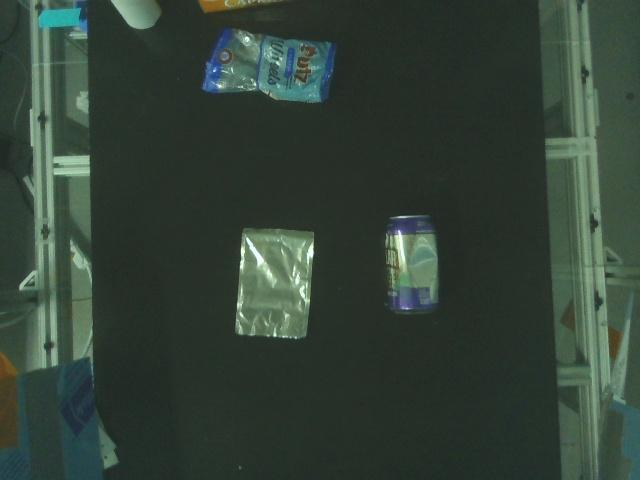cardboard: (108, 0, 164, 30), (195, 0, 289, 14)
metal: (385, 214, 441, 314)
plastic: (201, 28, 338, 104), (235, 228, 315, 339)
